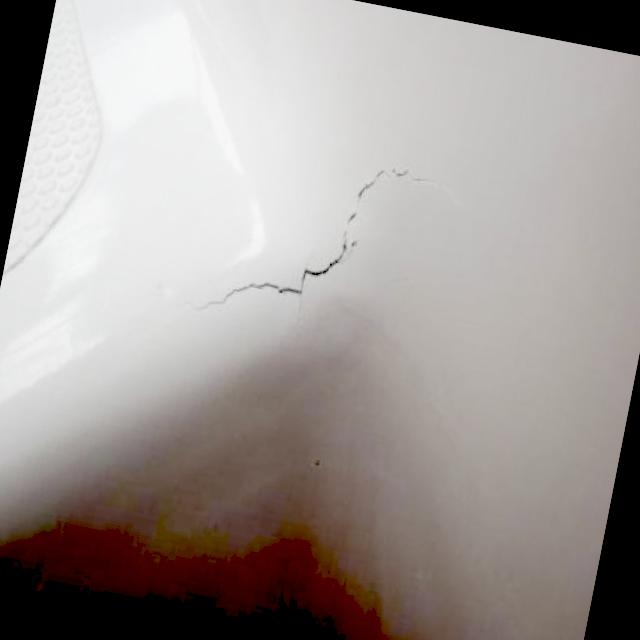crack: (164, 162, 469, 334)
